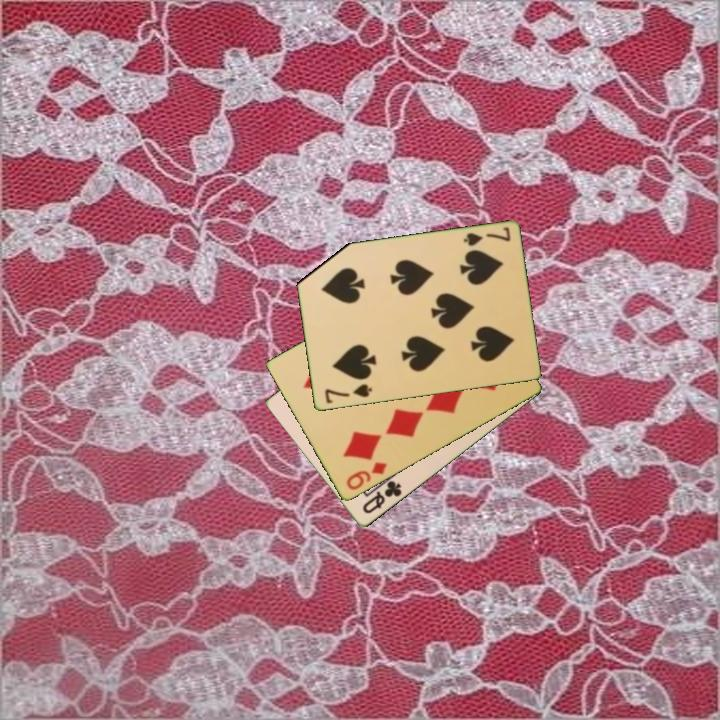7s: (321, 381, 375, 407), (460, 224, 513, 249)
9d: (342, 458, 390, 493)
Qc: (359, 477, 405, 517)
